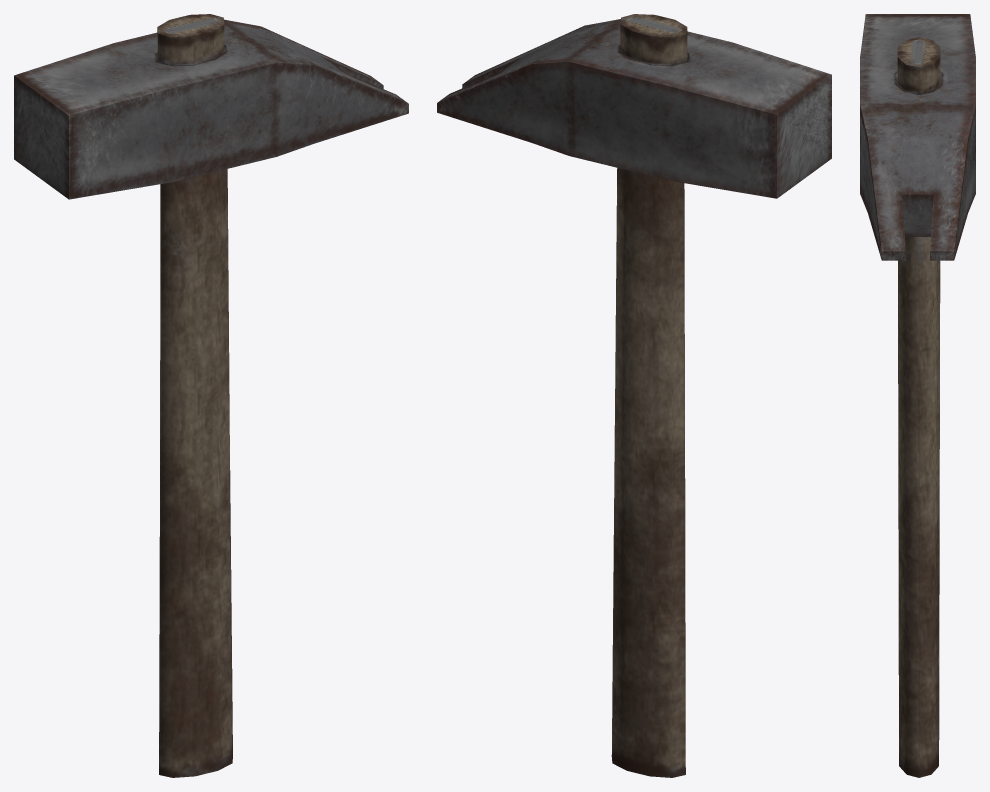
Rendered from Hammer.FBX.
3 views of the same model, side by side, from view 1: azimuth 30°, elevation 25°; view 2: azimuth 150°, elevation 25°; view 3: azimuth 270°, elevation 25° (orthographic). The views are drawn at different scales.
Visible parts, largest first — view 1: Hammer; view 2: Hammer; view 3: Hammer.
Part boxes in pixels (x1,y1,x2,y2): Hammer: (14,14,408,777); Hammer: (437,14,831,777); Hammer: (860,14,975,777).
Size of the model in its own units: 45.31 by 92.14 by 13.69.
